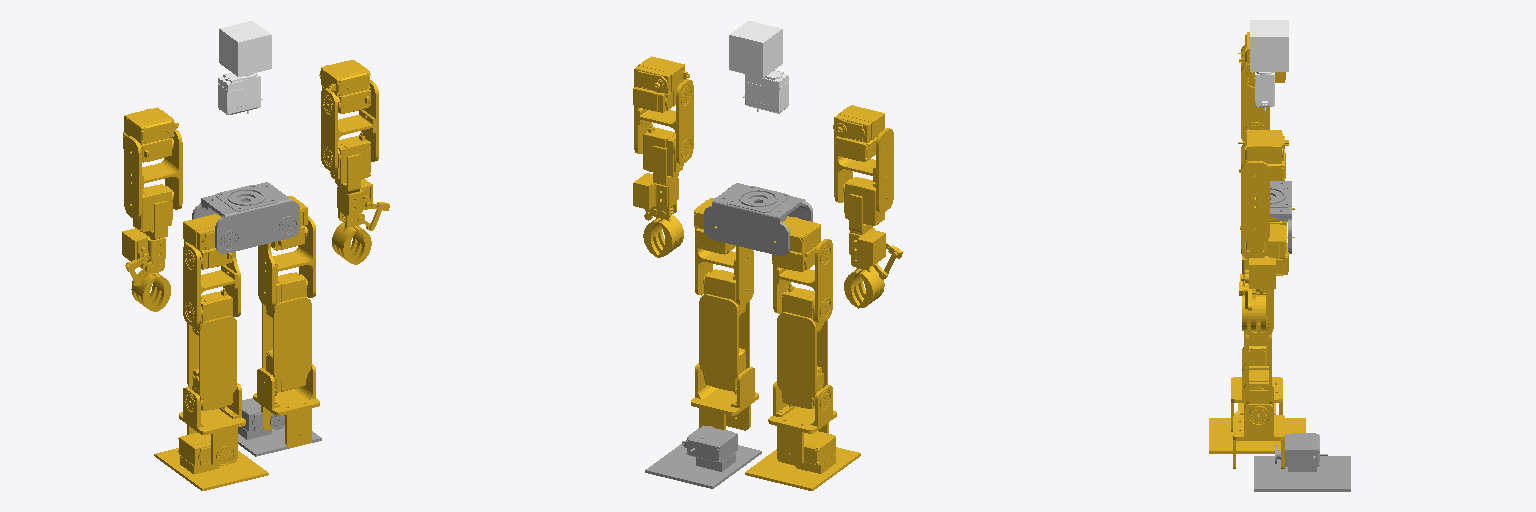
--- Facts derived from the render (not from the file) ---
The picture shows the robot from 3 angles, left to right: view 1: azimuth 30°, elevation 25°; view 2: azimuth 150°, elevation 25°; view 3: azimuth 270°, elevation 25°; orthographic projection.
Robot: Robot — 19 links, 18 joints (17 revolute, 1 fixed); root link base_link; default pose: every joint at zero.
Links seen in each view (by area): view 1: base_link, hip_knee_left_link, hip_knee_right_link, shoulder_elbow_left_link, shoulder_elbow_right_link, hip_head_link, shoulder_shoulder_left_link, shoulder_shoulder_right_link, ankle_ankle_left_link, knee_ankle_right_link, knee_ankle_left_link, hip_hip_left_link (+6 smaller); view 2: base_link, hip_knee_left_link, hip_knee_right_link, shoulder_elbow_right_link, shoulder_elbow_left_link, hip_head_link, ankle_ankle_right_link, ankle_ankle_left_link, shoulder_shoulder_left_link, shoulder_shoulder_right_link, knee_ankle_left_link, knee_ankle_right_link (+6 smaller); view 3: ankle_ankle_right_link, hip_head_link, shoulder_shoulder_right_link, shoulder_elbow_right_link, knee_ankle_right_link, ankle_ankle_left_link, shoulder_shoulder_left_link, hip_shoulder_right_link, hip_knee_right_link, base_link, knee_ankle_left_link, base_hip_right_link (+1 smaller).
Link boxes in pixels (<box>): base_link: <box>192,182,299,253</box>; hip_knee_left_link: <box>187,288,236,410</box>; hip_knee_right_link: <box>262,272,311,395</box>; shoulder_elbow_left_link: <box>122,184,173,311</box>; shoulder_elbow_right_link: <box>330,132,389,264</box>; hip_head_link: <box>218,20,271,114</box>; shoulder_shoulder_left_link: <box>123,130,182,219</box>; shoulder_shoulder_right_link: <box>321,80,378,171</box>; ankle_ankle_left_link: <box>154,433,268,490</box>; knee_ankle_right_link: <box>253,364,319,447</box>; knee_ankle_left_link: <box>179,383,245,466</box>; hip_hip_left_link: <box>183,244,240,326</box>; base_link: <box>704,183,812,255</box>; hip_knee_left_link: <box>777,284,827,408</box>; hip_knee_right_link: <box>699,269,749,394</box>; shoulder_elbow_right_link: <box>633,124,683,257</box>; shoulder_elbow_left_link: <box>844,177,902,308</box>; hip_head_link: <box>729,21,788,113</box>; ankle_ankle_right_link: <box>645,425,761,488</box>; ankle_ankle_left_link: <box>745,431,860,490</box>; shoulder_shoulder_left_link: <box>834,128,893,212</box>; shoulder_shoulder_right_link: <box>633,79,693,163</box>; knee_ankle_left_link: <box>768,381,836,465</box>; knee_ankle_right_link: <box>691,363,758,430</box>; ankle_ankle_right_link: <box>1254,433,1350,491</box>; hip_head_link: <box>1250,20,1288,110</box>; shoulder_shoulder_right_link: <box>1239,144,1285,242</box>; shoulder_elbow_right_link: <box>1239,228,1275,330</box>; knee_ankle_right_link: <box>1233,384,1284,468</box>; ankle_ankle_left_link: <box>1209,403,1305,453</box>; shoulder_shoulder_left_link: <box>1239,45,1285,141</box>; hip_shoulder_right_link: <box>1238,130,1288,163</box>; hip_knee_right_link: <box>1246,323,1271,403</box>; base_link: <box>1241,181,1291,253</box>; knee_ankle_left_link: <box>1231,347,1282,431</box>; base_hip_right_link: <box>1268,224,1294,275</box>.
Size in the robot's own frame: 0.3145 by 0.1463 by 0.4841 metres.
Meshes: 19 distinct files referenced, 18 mesh visuals loaded (18 binary STL); not drawn: 1 (file found but could not be loaded).

URDF robot description (Robot):
<?xml version="1.0" encoding="utf-8"?>
<!-- This URDF was automatically created by SolidWorks to URDF Exporter! Originally created by Stephen Brawner ([email redacted]) 
     Commit Version: 1.6.0-4-g7f85cfe  Build Version: 1.6.7995.38578
     For more information, please see http://wiki.ros.org/sw_urdf_exporter -->
<robot
  name="Robot">
  <link
    name="base_link">
    <inertial>
      <origin
        xyz="-4.96073883704406E-08 0.000462672288009211 -0.013211586070026"
        rpy="0 0 0" />
      <mass
        value="0.0505669356625173" />
      <inertia
        ixx="1.58512882562337E-05"
        ixy="-6.32129709336244E-12"
        ixz="3.06079220714818E-11"
        iyy="3.95314057556553E-05"
        iyz="-3.07371418289219E-06"
        izz="3.98877370276516E-05" />
    </inertial>
    <visual>
      <origin
        xyz="0 0 0"
        rpy="0 0 0" />
      <geometry>
        <mesh
          filename="package://ros2_pkg/urdf/meshes/base_link.STL" />
      </geometry>
      <material
        name="">
        <color
          rgba="0.698039215686274 0.698039215686274 0.698039215686274 1" />
      </material>
    </visual>
    <collision>
      <origin
        xyz="0 0 0"
        rpy="0 0 0" />
      <geometry>
        <mesh
          filename="package://ros2_pkg/urdf/meshes/base_link.STL" />
      </geometry>
    </collision>
  </link>
  <link
    name="base_hip_left_link">
    <inertial>
      <origin
        xyz="0.00998733125339211 -9.54015962895127E-08 0.0218258506936429"
        rpy="0 0 0" />
      <mass
        value="0.0540513645760621" />
      <inertia
        ixx="8.31443086285314E-06"
        ixy="-1.04977224197013E-10"
        ixz="-9.6741363136038E-09"
        iyy="1.38876292348193E-05"
        iyz="-5.07154008424479E-11"
        izz="9.16994849231721E-06" />
    </inertial>
    <visual>
      <origin
        xyz="0 0 0"
        rpy="0 0 0" />
      <geometry>
        <mesh
          filename="package://ros2_pkg/urdf/meshes/base_hip_left_link.STL" />
      </geometry>
      <material
        name="">
        <color
          rgba="0.949019607843137 0.76078431372549 0.180392156862745 1" />
      </material>
    </visual>
    <collision>
      <origin
        xyz="0 0 0"
        rpy="0 0 0" />
      <geometry>
        <mesh
          filename="package://ros2_pkg/urdf/meshes/base_hip_left_link.STL" />
      </geometry>
    </collision>
  </link>
  <joint
    name="base_hip_left_joint"
    type="revolute">
    <origin
      xyz="-0.0350000000000001 -0.0204999999999994 -0.0270000000000001"
      rpy="1.57079632679489 0 -3.14159265358979" />
    <parent
      link="base_link" />
    <child
      link="base_hip_left_link" />
    <axis
      xyz="0 0 1" />
    <limit
      lower="-0.17453"
      upper="0.69813"
      effort="0.8"
      velocity="6.16" />
  </joint>
  <link
    name="hip_hip_left_link">
    <inertial>
      <origin
        xyz="-0.00704458564509276 -0.00972823155065358 -0.0176386810408363"
        rpy="0 0 0" />
      <mass
        value="0.0782857304964654" />
      <inertia
        ixx="2.15867392602823E-05"
        ixy="3.64452827439173E-07"
        ixz="-9.6740941719115E-09"
        iyy="1.91652280044429E-05"
        iyz="-2.10257376527475E-10"
        izz="2.0531955653516E-05" />
    </inertial>
    <visual>
      <origin
        xyz="0 0 0"
        rpy="0 0 0" />
      <geometry>
        <mesh
          filename="package://ros2_pkg/urdf/meshes/hip_hip_left_link.STL" />
      </geometry>
      <material
        name="">
        <color
          rgba="0.949019607843137 0.76078431372549 0.180392156862745 1" />
      </material>
    </visual>
    <collision>
      <origin
        xyz="0 0 0"
        rpy="0 0 0" />
      <geometry>
        <mesh
          filename="package://ros2_pkg/urdf/meshes/hip_hip_left_link.STL" />
      </geometry>
    </collision>
  </link>
  <joint
    name="hip_hip_left_joint"
    type="revolute">
    <origin
      xyz="0.0295 -0.0205000000000001 0.0105"
      rpy="0 1.5707963267949 0" />
    <parent
      link="base_hip_left_link" />
    <child
      link="hip_hip_left_link" />
    <axis
      xyz="0 0 -1" />
    <limit
      lower="-0.8"
      upper="0.69813"
      effort="0.8"
      velocity="6.16" />
  </joint>
  <link
    name="hip_knee_left_link">
    <inertial>
      <origin
        xyz="3.29597460435593E-16 -0.052131243528057 -0.0183200192860185"
        rpy="0 0 0" />
      <mass
        value="0.130204487078614" />
      <inertia
        ixx="4.59198297178949E-05"
        ixy="-2.09954448456902E-10"
        ixz="-4.28602229226364E-20"
        iyy="2.02899102584213E-05"
        iyz="-7.53189730635329E-21"
        izz="3.2855864207069E-05" />
    </inertial>
    <visual>
      <origin
        xyz="0 0 0"
        rpy="0 0 0" />
      <geometry>
        <mesh
          filename="package://ros2_pkg/urdf/meshes/hip_knee_left_link.STL" />
      </geometry>
      <material
        name="">
        <color
          rgba="0.949019607843137 0.76078431372549 0.180392156862745 1" />
      </material>
    </visual>
    <collision>
      <origin
        xyz="0 0 0"
        rpy="0 0 0" />
      <geometry>
        <mesh
          filename="package://ros2_pkg/urdf/meshes/hip_knee_left_link.STL" />
      </geometry>
    </collision>
  </link>
  <joint
    name="hip_knee_left_joint"
    type="revolute">
    <origin
      xyz="0 -0.0599999999999997 0"
      rpy="0 0 0" />
    <parent
      link="hip_hip_left_link" />
    <child
      link="hip_knee_left_link" />
    <axis
      xyz="0 0 -1" />
    <limit
      lower="-1.3963"
      upper="1.3963"
      effort="0.8"
      velocity="6.16" />
  </joint>
  <link
    name="knee_ankle_left_link">
    <inertial>
      <origin
        xyz="3.93736869536421E-05 -0.027515550876819 -0.0176910938148466"
        rpy="0 0 0" />
      <mass
        value="0.0298519989099933" />
      <inertia
        ixx="9.56697138711308E-06"
        ixy="1.6471871683677E-06"
        ixz="4.48957279114108E-07"
        iyy="1.00406929638069E-05"
        iyz="-1.44787293328076E-06"
        izz="9.63973144953533E-06" />
    </inertial>
    <visual>
      <origin
        xyz="0 0 0"
        rpy="0 0 0" />
      <geometry>
        <mesh
          filename="package://ros2_pkg/urdf/meshes/knee_ankle_left_link.STL" />
      </geometry>
      <material
        name="">
        <color
          rgba="0.949019607843137 0.76078431372549 0.180392156862745 1" />
      </material>
    </visual>
    <collision>
      <origin
        xyz="0 0 0"
        rpy="0 0 0" />
      <geometry>
        <mesh
          filename="package://ros2_pkg/urdf/meshes/knee_ankle_left_link.STL" />
      </geometry>
    </collision>
  </link>
  <joint
    name="knee_ankle_left_joint"
    type="revolute">
    <origin
      xyz="0 -0.1034 0"
      rpy="0 0 0" />
    <parent
      link="hip_knee_left_link" />
    <child
      link="knee_ankle_left_link" />
    <axis
      xyz="0 0 -1" />
    <limit
      lower="-0.8"
      upper="0.8"
      effort="0.8"
      velocity="6.16" />
  </joint>
  <link
    name="ankle_ankle_left_link">
    <inertial>
      <origin
        xyz="-0.00809509712887917 -0.00727461919221756 -0.0218892657222814"
        rpy="0 0 0" />
      <mass
        value="0.0850053645760622" />
      <inertia
        ixx="2.80542144992169E-05"
        ixy="5.98719522678762E-07"
        ixz="-9.67413631360677E-09"
        iyy="4.73017474166376E-05"
        iyz="5.07154009091344E-11"
        izz="2.35375503104991E-05" />
    </inertial>
    <visual>
      <origin
        xyz="0 0 0"
        rpy="0 0 0" />
      <geometry>
        <mesh
          filename="package://ros2_pkg/urdf/meshes/ankle_ankle_left_link.STL" />
      </geometry>
      <material
        name="">
        <color
          rgba="0.949019607843137 0.76078431372549 0.180392156862745 1" />
      </material>
    </visual>
    <collision>
      <origin
        xyz="0 0 0"
        rpy="0 0 0" />
      <geometry>
        <mesh
          filename="package://ros2_pkg/urdf/meshes/ankle_ankle_left_link.STL" />
      </geometry>
    </collision>
  </link>
  <joint
    name="ankle_ankle_left_joint"
    type="revolute">
    <origin
      xyz="0.0215 -0.0570000000000001 -0.0180000000000003"
      rpy="0 1.5707963267949 0" />
    <parent
      link="knee_ankle_left_link" />
    <child
      link="ankle_ankle_left_link" />
    <axis
      xyz="0 0 -1" />
    <limit
      lower="-1.2217"
      upper="1.2217"
      effort="0.8"
      velocity="6.16" />
  </joint>
  <link
    name="base_hip_right_link">
    <inertial>
      <origin
        xyz="0.00998733125338554 9.54015970527911E-08 -0.0218258506936449"
        rpy="0 0 0" />
      <mass
        value="0.054051364576062" />
      <inertia
        ixx="8.31443086285313E-06"
        ixy="1.0497722422289E-10"
        ixz="9.67413631360684E-09"
        iyy="1.38876292348193E-05"
        iyz="-5.07154008419528E-11"
        izz="9.16994849231722E-06" />
    </inertial>
    <visual>
      <origin
        xyz="0 0 0"
        rpy="0 0 0" />
      <geometry>
        <mesh
          filename="package://ros2_pkg/urdf/meshes/base_hip_right_link.STL" />
      </geometry>
      <material
        name="">
        <color
          rgba="0.949019607843137 0.76078431372549 0.180392156862745 1" />
      </material>
    </visual>
    <collision>
      <origin
        xyz="0 0 0"
        rpy="0 0 0" />
      <geometry>
        <mesh
          filename="package://ros2_pkg/urdf/meshes/base_hip_right_link.STL" />
      </geometry>
    </collision>
  </link>
  <joint
    name="base_hip_right_joint"
    type="revolute">
    <origin
      xyz="0.0350000000000045 -0.0204999999999993 -0.027"
      rpy="1.5707963267949 0 0" />
    <parent
      link="base_link" />
    <child
      link="base_hip_right_link" />
    <axis
      xyz="0 0 -1" />
    <limit
      lower="-0.69813"
      upper="0.17453"
      effort="0.8"
      velocity="6.16" />
  </joint>
  <link
    name="hip_hip_right_link">
    <inertial>
      <origin
        xyz="0.00704458564509446 -0.00972910004934305 -0.02113868104453"
        rpy="0 0 0" />
      <mass
        value="0.0782857304964656" />
      <inertia
        ixx="2.15867392602823E-05"
        ixy="-3.6424253376394E-07"
        ixz="9.67409608113729E-09"
        iyy="1.91652280044429E-05"
        iyz="2.1025737652596E-10"
        izz="2.0531955653516E-05" />
    </inertial>
    <visual>
      <origin
        xyz="0 0 0"
        rpy="0 0 0" />
      <geometry>
        <mesh
          filename="package://ros2_pkg/urdf/meshes/hip_hip_right_link.STL" />
      </geometry>
      <material
        name="">
        <color
          rgba="0.949019607843137 0.76078431372549 0.180392156862745 1" />
      </material>
    </visual>
    <collision>
      <origin
        xyz="0 0 0"
        rpy="0 0 0" />
      <geometry>
        <mesh
          filename="package://ros2_pkg/urdf/meshes/hip_hip_right_link.STL" />
      </geometry>
    </collision>
  </link>
  <joint
    name="hip_hip_right_joint"
    type="revolute">
    <origin
      xyz="0.0309000000000001 -0.0204999999999999 -0.0126"
      rpy="0 1.5707963267949 0" />
    <parent
      link="base_hip_right_link" />
    <child
      link="hip_hip_right_link" />
    <axis
      xyz="0 0 -1" />
    <limit
      lower="-0.69813"
      upper="0.8"
      effort="0.8"
      velocity="6.16" />
  </joint>
  <link
    name="hip_knee_right_link">
    <inertial>
      <origin
        xyz="2.09554595897998E-15 -0.0521312435280562 -0.0218200192860273"
        rpy="0 0 0" />
      <mass
        value="0.130204487078614" />
      <inertia
        ixx="4.59198297178948E-05"
        ixy="-2.09954448442892E-10"
        ixz="-4.56461179262143E-20"
        iyy="2.02899102584213E-05"
        iyz="-1.12687493430799E-20"
        izz="3.28558642070689E-05" />
    </inertial>
    <visual>
      <origin
        xyz="0 0 0"
        rpy="0 0 0" />
      <geometry>
        <mesh
          filename="package://ros2_pkg/urdf/meshes/hip_knee_right_link.STL" />
      </geometry>
      <material
        name="">
        <color
          rgba="0.949019607843137 0.76078431372549 0.180392156862745 1" />
      </material>
    </visual>
    <collision>
      <origin
        xyz="0 0 0"
        rpy="0 0 0" />
      <geometry>
        <mesh
          filename="package://ros2_pkg/urdf/meshes/hip_knee_right_link.STL" />
      </geometry>
    </collision>
  </link>
  <joint
    name="hip_knee_right_joint"
    type="revolute">
    <origin
      xyz="0 -0.0600000000000001 0"
      rpy="0 0 0" />
    <parent
      link="hip_hip_right_link" />
    <child
      link="hip_knee_right_link" />
    <axis
      xyz="0 0 -1" />
    <limit
      lower="-1.3963"
      upper="1.3963"
      effort="0.8"
      velocity="6.16" />
  </joint>
  <link
    name="knee_ankle_right_link">
    <inertial>
      <origin
        xyz="3.93736869559388E-05 -0.0275155508768182 -0.0211910938148556"
        rpy="0 0 0" />
      <mass
        value="0.0298519989099933" />
      <inertia
        ixx="9.5669713871131E-06"
        ixy="1.6471871683677E-06"
        ixz="4.4895727911411E-07"
        iyy="1.00406929638069E-05"
        iyz="-1.44787293328077E-06"
        izz="9.63973144953534E-06" />
    </inertial>
    <visual>
      <origin
        xyz="0 0 0"
        rpy="0 0 0" />
      <geometry>
        <mesh
          filename="package://ros2_pkg/urdf/meshes/knee_ankle_right_link.STL" />
      </geometry>
      <material
        name="">
        <color
          rgba="0.949019607843137 0.76078431372549 0.180392156862745 1" />
      </material>
    </visual>
    <collision>
      <origin
        xyz="0 0 0"
        rpy="0 0 0" />
      <geometry>
        <mesh
          filename="package://ros2_pkg/urdf/meshes/knee_ankle_right_link.STL" />
      </geometry>
    </collision>
  </link>
  <joint
    name="knee_ankle_right_joint"
    type="revolute">
    <origin
      xyz="0 -0.1034 0"
      rpy="0 0 0" />
    <parent
      link="hip_knee_right_link" />
    <child
      link="knee_ankle_right_link" />
    <axis
      xyz="0 0 -1" />
    <limit
      lower="-0.8"
      upper="0.8"
      effort="0.8"
      velocity="6.16" />
  </joint>
  <link
    name="ankle_ankle_right_link">
    <inertial>
      <origin
        xyz="-0.00800882305491046 -0.00719708942027525 -0.0220325514980323"
        rpy="0 0 0" />
      <mass
        value="0.0859210745449871" />
      <inertia
        ixx="2.80785040143856E-05"
        ixy="5.98719522678801E-07"
        ixz="-9.67413631360054E-09"
        iyy="4.73260369318063E-05"
        iyz="5.07154009085352E-11"
        izz="2.35857406698626E-05" />
    </inertial>
    <visual>
      <origin
        xyz="0 0 0"
        rpy="0 0 0" />
      <geometry>
        <mesh
          filename="package://ros2_pkg/urdf/meshes/ankle_ankle_right_link.STL" />
      </geometry>
      <material
        name="">
        <color
          rgba="0.698039215686274 0.698039215686274 0.698039215686274 1" />
      </material>
    </visual>
    <collision>
      <origin
        xyz="0 0 0"
        rpy="0 0 0" />
      <geometry>
        <mesh
          filename="package://ros2_pkg/urdf/meshes/ankle_ankle_right_link.STL" />
      </geometry>
    </collision>
  </link>
  <joint
    name="ankle_ankle_right_joint"
    type="revolute">
    <origin
      xyz="0.0214999999999963 -0.0570000000000002 -0.0215000000000039"
      rpy="0 1.5707963267949 0" />
    <parent
      link="knee_ankle_right_link" />
    <child
      link="ankle_ankle_right_link" />
    <axis
      xyz="0 0 -1" />
    <limit
      lower="-1.2217"
      upper="1.2217"
      effort="0.8"
      velocity="6.16" />
  </joint>
  <link
    name="base_hip_middle_link">
    <inertial>
      <origin
        xyz="-0.00014272127646092 0.0147894005996427 0.0799735363940215"
        rpy="0 0 0" />
      <mass
        value="0.322024415361419" />
      <inertia
        ixx="0.000482647232629694"
        ixy="-2.14638462617517E-07"
        ixz="-2.40807211313119E-08"
        iyy="0.000836282388701369"
        iyz="4.64558426111013E-07"
        izz="0.000520018730323674" />
    </inertial>
    <visual>
      <origin
        xyz="0 0 0"
        rpy="0 0 0" />
      <geometry>
        <mesh
          filename="package://ros2_pkg/urdf/meshes/base_hip_middle_link.STL" />
      </geometry>
      <material
        name="">
        <color
          rgba="0.698039215686274 0.698039215686274 0.698039215686274 1" />
      </material>
    </visual>
    <collision>
      <origin
        xyz="0 0 0"
        rpy="0 0 0" />
      <geometry>
        <mesh
          filename="package://ros2_pkg/urdf/meshes/base_hip_middle_link.STL" />
      </geometry>
    </collision>
  </link>
  <joint
    name="base_hip_middle_joint"
    type="revolute">
    <origin
      xyz="0 0 0.0048"
      rpy="0 0 0" />
    <parent
      link="base_link" />
    <child
      link="base_hip_middle_link" />
    <axis
      xyz="0 0 1" />
    <limit
      lower="-0.5236"
      upper="0.5236"
      effort="0.8"
      velocity="6.16" />
  </joint>
  <link
    name="hip_shoulder_left_link">
    <inertial>
      <origin
        xyz="-0.00998733125339238 9.5401596532374E-08 0.021825850693644"
        rpy="0 0 0" />
      <mass
        value="0.054051364576062" />
      <inertia
        ixx="8.31443086285314E-06"
        ixy="-1.04977224241056E-10"
        ixz="9.67413631360957E-09"
        iyy="1.38876292348193E-05"
        iyz="5.07154008425548E-11"
        izz="9.1699484923172E-06" />
    </inertial>
    <visual>
      <origin
        xyz="0 0 0"
        rpy="0 0 0" />
      <geometry>
        <mesh
          filename="package://ros2_pkg/urdf/meshes/hip_shoulder_left_link.STL" />
      </geometry>
      <material
        name="">
        <color
          rgba="0.949019607843137 0.76078431372549 0.180392156862745 1" />
      </material>
    </visual>
    <collision>
      <origin
        xyz="0 0 0"
        rpy="0 0 0" />
      <geometry>
        <mesh
          filename="package://ros2_pkg/urdf/meshes/hip_shoulder_left_link.STL" />
      </geometry>
    </collision>
  </link>
  <joint
    name="hip_shoulder_left_joint"
    type="revolute">
    <origin
      xyz="-0.108 0.0195000000000005 0.1093"
      rpy="1.5707963267949 0 0" />
    <parent
      link="base_hip_middle_link" />
    <child
      link="hip_shoulder_left_link" />
    <axis
      xyz="0 0 1" />
    <limit
      lower="-1.2217"
      upper="0.17453"
      effort="0.8"
      velocity="6.16" />
  </joint>
  <link
    name="shoulder_shoulder_left_link">
    <inertial>
      <origin
        xyz="0.00679109464747217 -0.0132231154303535 0.00466452110588328"
        rpy="0 0 0" />
      <mass
        value="0.0794907034391992" />
      <inertia
        ixx="2.28341377776542E-05"
        ixy="1.05146837614608E-10"
        ixz="9.67409512653486E-09"
        iyy="1.93090904264949E-05"
        iyz="2.10254567355568E-10"
        izz="2.19200033271726E-05" />
    </inertial>
    <visual>
      <origin
        xyz="0 0 0"
        rpy="0 0 0" />
      <geometry>
        <mesh
          filename="package://ros2_pkg/urdf/meshes/shoulder_shoulder_left_link.STL" />
      </geometry>
      <material
        name="">
        <color
          rgba="0.949019607843137 0.76078431372549 0.180392156862745 1" />
      </material>
    </visual>
    <collision>
      <origin
        xyz="0 0 0"
        rpy="0 0 0" />
      <geometry>
        <mesh
          filename="package://ros2_pkg/urdf/meshes/shoulder_shoulder_left_link.STL" />
      </geometry>
    </collision>
  </link>
  <joint
    name="shoulder_shoulder_left_joint"
    type="revolute">
    <origin
      xyz="-0.0156724872211919 -0.0168781854564233 0.0309000000000023"
      rpy="0 1.5707963267949 0" />
    <parent
      link="hip_shoulder_left_link" />
    <child
      link="shoulder_shoulder_left_link" />
    <axis
      xyz="0 0 -1" />
    <limit
      lower="-1.0472"
      upper="1.0472"
      effort="0.8"
      velocity="6.16" />
  </joint>
  <link
    name="shoulder_elbow_left_link">
    <inertial>
      <origin
        xyz="0.00126046297506029 -0.0335482693517731 -0.0230672553422172"
        rpy="0 0 0" />
      <mass
        value="0.0922123668839718" />
      <inertia
        ixx="2.30109802754414E-05"
        ixy="-1.35524902368697E-07"
        ixz="2.5227698385325E-07"
        iyy="1.15346026523125E-05"
        iyz="-8.00240572311053E-08"
        izz="1.89716616063928E-05" />
    </inertial>
    <visual>
      <origin
        xyz="0 0 0"
        rpy="0 0 0" />
      <geometry>
        <mesh
          filename="package://ros2_pkg/urdf/meshes/shoulder_elbow_left_link.STL" />
      </geometry>
      <material
        name="">
        <color
          rgba="0.949019607843137 0.76078431372549 0.180392156862745 1" />
      </material>
    </visual>
    <collision>
      <origin
        xyz="0 0 0"
        rpy="0 0 0" />
      <geometry>
        <mesh
          filename="package://ros2_pkg/urdf/meshes/shoulder_elbow_left_link.STL" />
      </geometry>
    </collision>
  </link>
  <joint
    name="shoulder_elbow_left_joint"
    type="revolute">
    <origin
      xyz="0 -0.063622 0.026172"
      rpy="0 0 0" />
    <parent
      link="shoulder_shoulder_left_link" />
    <child
      link="shoulder_elbow_left_link" />
    <axis
      xyz="0 0 -1" />
    <limit
      lower="-1.3963"
      upper="1.3963"
      effort="0.8"
      velocity="6.16" />
  </joint>
  <link
    name="hip_shoulder_right_link">
    <inertial>
      <origin
        xyz="-0.00998733125339185 -9.54015958523624E-08 -0.0183258506936388"
        rpy="0 0 0" />
      <mass
        value="0.054051364576062" />
      <inertia
        ixx="8.31443086285314E-06"
        ixy="1.04977224221799E-10"
        ixz="-9.67413631360803E-09"
        iyy="1.38876292348193E-05"
        iyz="5.07154008391455E-11"
        izz="9.16994849231721E-06" />
    </inertial>
    <visual>
      <origin
        xyz="0 0 0"
        rpy="0 0 0" />
      <geometry>
        <mesh
          filename="package://ros2_pkg/urdf/meshes/hip_shoulder_right_link.STL" />
      </geometry>
      <material
        name="">
        <color
          rgba="0.949019607843137 0.76078431372549 0.180392156862745 1" />
      </material>
    </visual>
    <collision>
      <origin
        xyz="0 0 0"
        rpy="0 0 0" />
      <geometry>
        <mesh
          filename="package://ros2_pkg/urdf/meshes/hip_shoulder_right_link.STL" />
      </geometry>
    </collision>
  </link>
  <joint
    name="hip_shoulder_right_joint"
    type="revolute">
    <origin
      xyz="0.108 0.016 0.1093"
      rpy="1.5708 0 3.1416" />
    <parent
      link="base_hip_middle_link" />
    <child
      link="hip_shoulder_right_link" />
    <axis
      xyz="0 0 -1" />
    <limit
      lower="-0.17453"
      upper="1.2217"
      effort="0.8"
      velocity="6.16" />
  </joint>
  <link
    name="shoulder_shoulder_right_link">
    <inertial>
      <origin
        xyz="-0.00679109444793513 -0.0132232451709656 0.00466452110588338"
        rpy="0 0 0" />
      <mass
        value="0.0794907034391992" />
      <inertia
        ixx="2.28341377776542E-05"
        ixy="1.05146837620115E-10"
        ixz="-9.67417750069501E-09"
        iyy="1.93090904264949E-05"
        iyz="3.11685369057988E-10"
        izz="2.19200033271726E-05" />
    </inertial>
    <visual>
      <origin
        xyz="0 0 0"
        rpy="0 0 0" />
      <geometry>
        <mesh
          filename="package://ros2_pkg/urdf/meshes/shoulder_shoulder_right_link.STL" />
      </geometry>
      <material
        name="">
        <color
          rgba="0.949019607843137 0.76078431372549 0.180392156862745 1" />
      </material>
    </visual>
    <collision>
      <origin
        xyz="0 0 0"
        rpy="0 0 0" />
      <geometry>
        <mesh
          filename="package://ros2_pkg/urdf/meshes/shoulder_shoulder_right_link.STL" />
      </geometry>
    </collision>
  </link>
  <joint
    name="shoulder_shoulder_right_joint"
    type="revolute">
    <origin
      xyz="-0.015672 -0.016878 -0.0274"
      rpy="0 1.5708 0" />
    <parent
      link="hip_shoulder_right_link" />
    <child
      link="shoulder_shoulder_right_link" />
    <axis
      xyz="0 0 -1" />
    <limit
      lower="-1.0472"
      upper="1.0472"
      effort="0.8"
      velocity="6.16" />
  </joint>
  <link
    name="shoulder_elbow_right_link">
    <inertial>
      <origin
        xyz="0.000126644439907557 -0.033555308629724 -0.0230646392550644"
        rpy="0 0 0" />
      <mass
        value="0.0921635034792499" />
      <inertia
        ixx="2.29848519100087E-05"
        ixy="-9.31043220329644E-08"
        ixz="-2.2718104245074E-07"
        iyy="1.15344501568406E-05"
        iyz="-8.05828663856901E-08"
        izz="1.89450966184291E-05" />
    </inertial>
    <visual>
      <origin
        xyz="0 0 0"
        rpy="0 0 0" />
      <geometry>
        <mesh
          filename="package://ros2_pkg/urdf/meshes/shoulder_elbow_right_link.STL" />
      </geometry>
      <material
        name="">
        <color
          rgba="0.949019607843137 0.76078431372549 0.180392156862745 1" />
      </material>
    </visual>
    <collision>
      <origin
        xyz="0 0 0"
        rpy="0 0 0" />
      <geometry>
        <mesh
          filename="package://ros2_pkg/urdf/meshes/shoulder_elbow_right_link.STL" />
      </geometry>
    </collision>
  </link>
  <joint
    name="shoulder_elbow_right_joint"
    type="revolute">
    <origin
      xyz="0 -0.063622 0.026172"
      rpy="0 0 0" />
    <parent
      link="shoulder_shoulder_right_link" />
    <child
      link="shoulder_elbow_right_link" />
    <axis
      xyz="0 0 -1" />
    <limit
      lower="-1.3963"
      upper="1.3963"
      effort="0.8"
      velocity="6.16" />
  </joint>
  <link
    name="hip_head_link">
    <inertial>
      <origin
        xyz="-0.004720965516897 0.00262494414590787 0.00202353709790661"
        rpy="0 0 0" />
      <mass
        value="0.114347135302489" />
      <inertia
        ixx="2.40002189328777E-05"
        ixy="1.04977224221626E-10"
        ixz="-9.67413631361122E-09"
        iyy="2.95952418691319E-05"
        iyz="8.14892265253188E-08"
        izz="2.51608824852151E-05" />
    </inertial>
    <visual>
      <origin
        xyz="0 0 0"
        rpy="0 0 0" />
      <geometry>
        <mesh
          filename="package://ros2_pkg/urdf/meshes/hip_head_link.STL" />
      </geometry>
      <material
        name="">
        <color
          rgba="1 1 1 1" />
      </material>
    </visual>
    <collision>
      <origin
        xyz="0 0 0"
        rpy="0 0 0" />
      <geometry>
        <mesh
          filename="package://ros2_pkg/urdf/meshes/hip_head_link.STL" />
      </geometry>
    </collision>
  </link>
  <joint
    name="hip_head_joint"
    type="fixed">
    <origin
      xyz="0.00102807858096265 -0.00174999999999934 0.144615997868974"
      rpy="0 0 0" />
    <parent
      link="base_hip_middle_link" />
    <child
      link="hip_head_link" />
    <axis
      xyz="0 0 0" />
  </joint>
</robot> 
